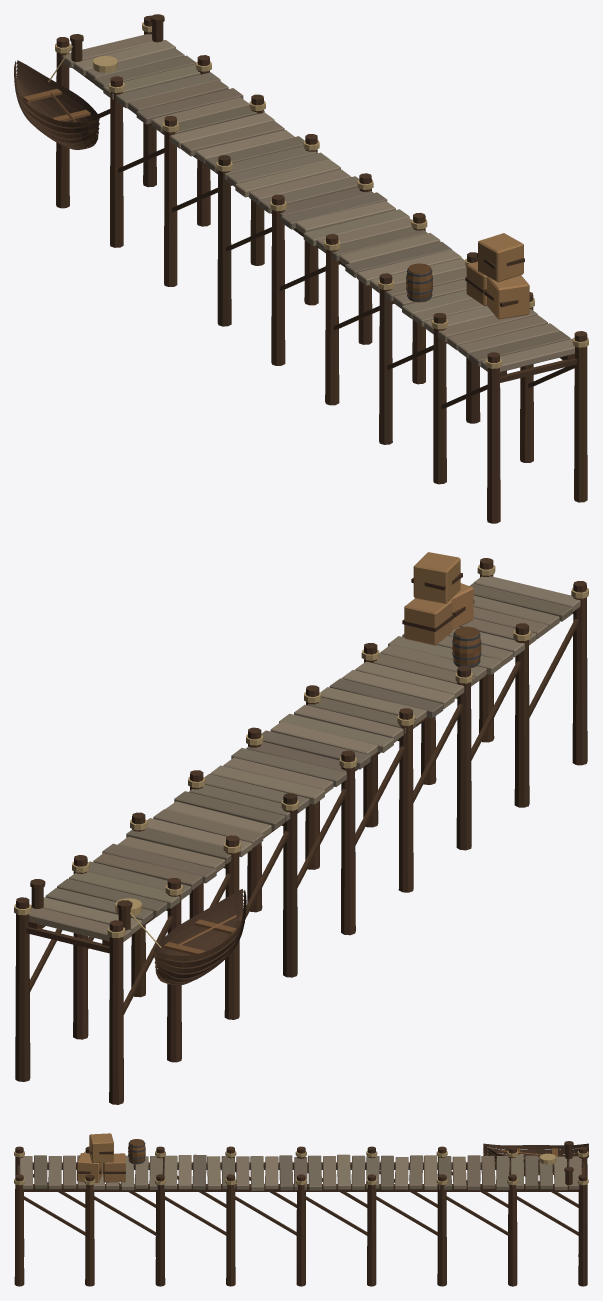
Rendered from Dock.glb.
3 renders of one model, top to bottom at view 1: azimuth 30°, elevation 25°; view 2: azimuth 150°, elevation 25°; view 3: azimuth 270°, elevation 25°, orthographic. The views are drawn at different scales.
Visible parts, largest first — view 1: Mat_Wood_473223, Mat_Wood_83715b, Mat_Wood_644d38, Mat_Thatch_857663, Mat_Thatch_a38d68; view 2: Mat_Wood_473223, Mat_Wood_83715b, Mat_Wood_644d38, Mat_Thatch_857663, Mat_Thatch_a38d68; view 3: Mat_Wood_473223, Mat_Wood_83715b, Mat_Wood_644d38, Mat_Thatch_857663, Mat_Thatch_a38d68.
Part boxes in pixels (x1,y1,x2,y2): Mat_Wood_473223: [14, 14, 577, 523]; Mat_Wood_83715b: [85, 47, 574, 371]; Mat_Wood_644d38: [16, 37, 587, 502]; Mat_Thatch_857663: [62, 34, 559, 358]; Mat_Thatch_a38d68: [48, 22, 588, 368]; Mat_Wood_473223: [15, 573, 587, 1081]; Mat_Wood_83715b: [45, 552, 580, 925]; Mat_Wood_644d38: [73, 558, 572, 1104]; Mat_Thatch_857663: [29, 595, 559, 941]; Mat_Thatch_a38d68: [14, 564, 588, 947]; Mat_Wood_473223: [15, 1141, 588, 1286]; Mat_Wood_83715b: [19, 1133, 552, 1190]; Mat_Wood_644d38: [14, 1139, 588, 1286]; Mat_Thatch_857663: [48, 1154, 581, 1190]; Mat_Thatch_a38d68: [14, 1151, 588, 1190].
Size of the model in its own units: 10.29 by 13.25 by 48.97.
1 material, 1 textured.
